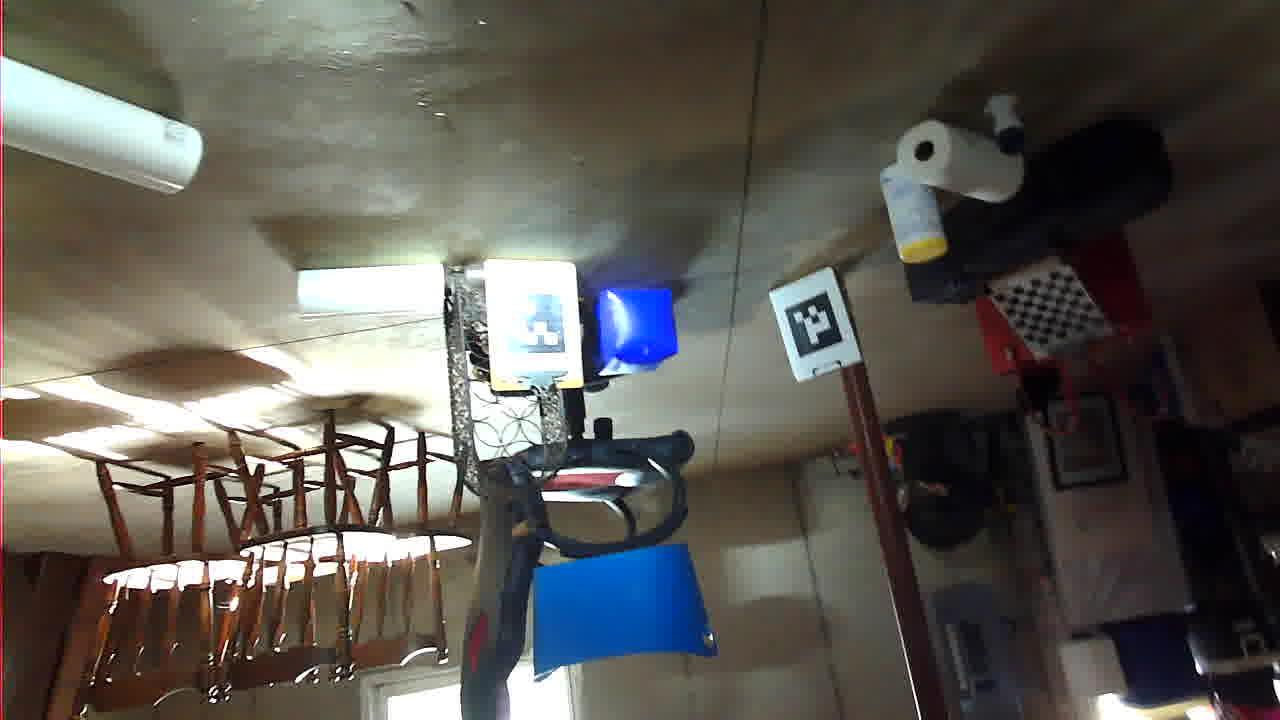coral: (1076, 524, 1277, 666), (836, 404, 984, 459)
